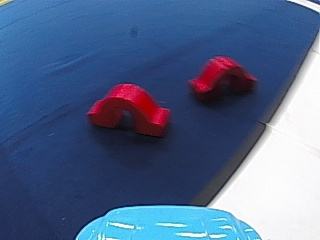bridge: (84, 80, 176, 137), (182, 52, 257, 104)
